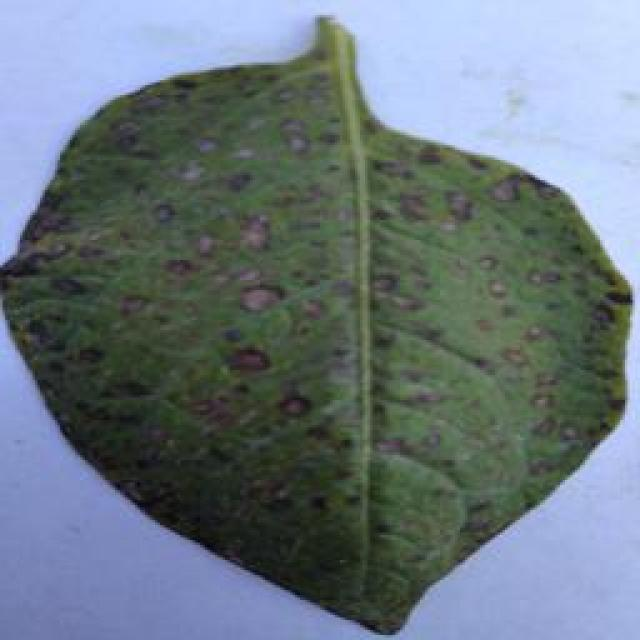Potato_Early_Blight: (7, 18, 640, 640)
